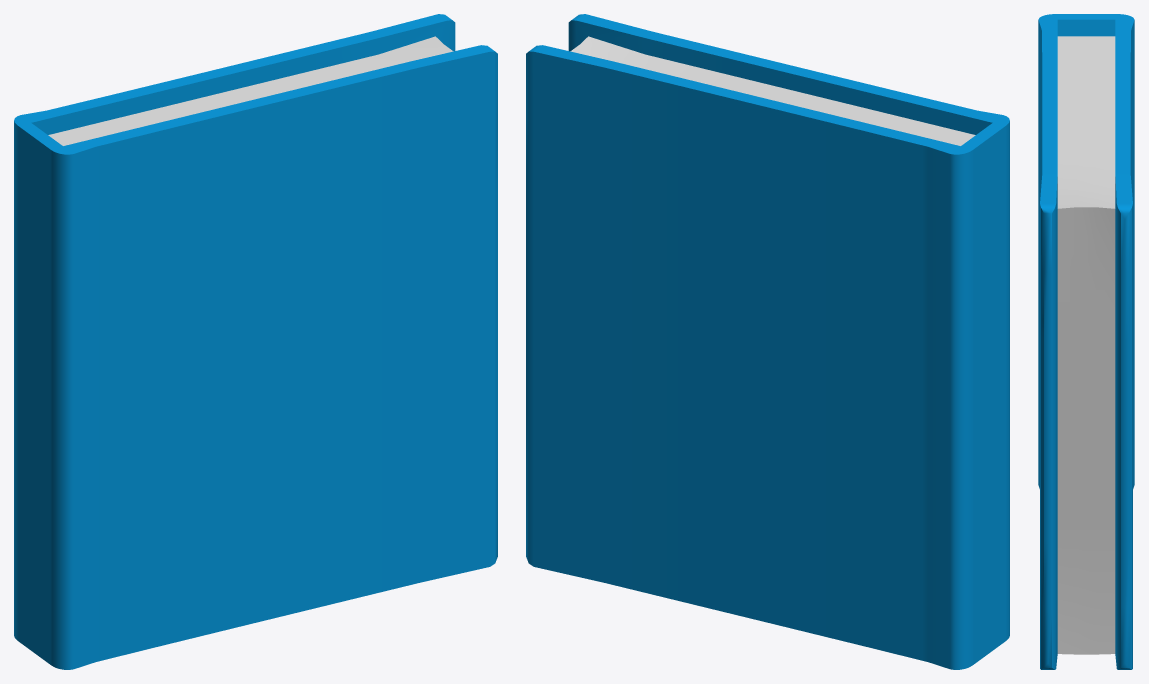
The model's file is book_blue.fbx.
The picture shows the model from 3 angles, left to right: view 1: azimuth 30°, elevation 25°; view 2: azimuth 150°, elevation 25°; view 3: azimuth 270°, elevation 25°; orthographic projection. The views are drawn at different scales.
Parts seen in each view (by area): view 1: pCube1; view 2: pCube1; view 3: pCube1.
Part boxes in pixels (bbox=[...]): pCube1: bbox=[14, 14, 497, 669]; pCube1: bbox=[526, 14, 1009, 669]; pCube1: bbox=[1038, 14, 1134, 669].
Bounding box in the file's own units: 23.21 × 25.88 × 4.84.
